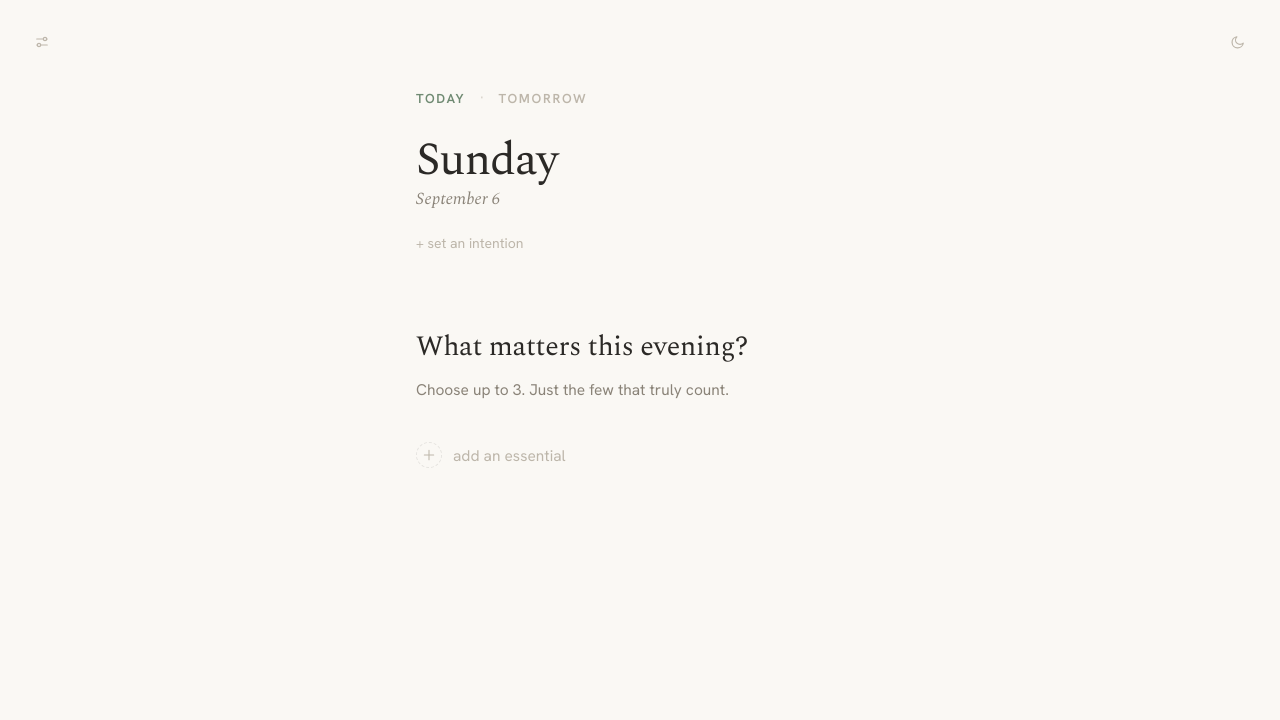
Test: adding and the cap › hides "add" and shows the calm note at the cap
Step 1. Click the button "add an essential" → (491, 455), box left=416, top=422, right=566, bottom=488
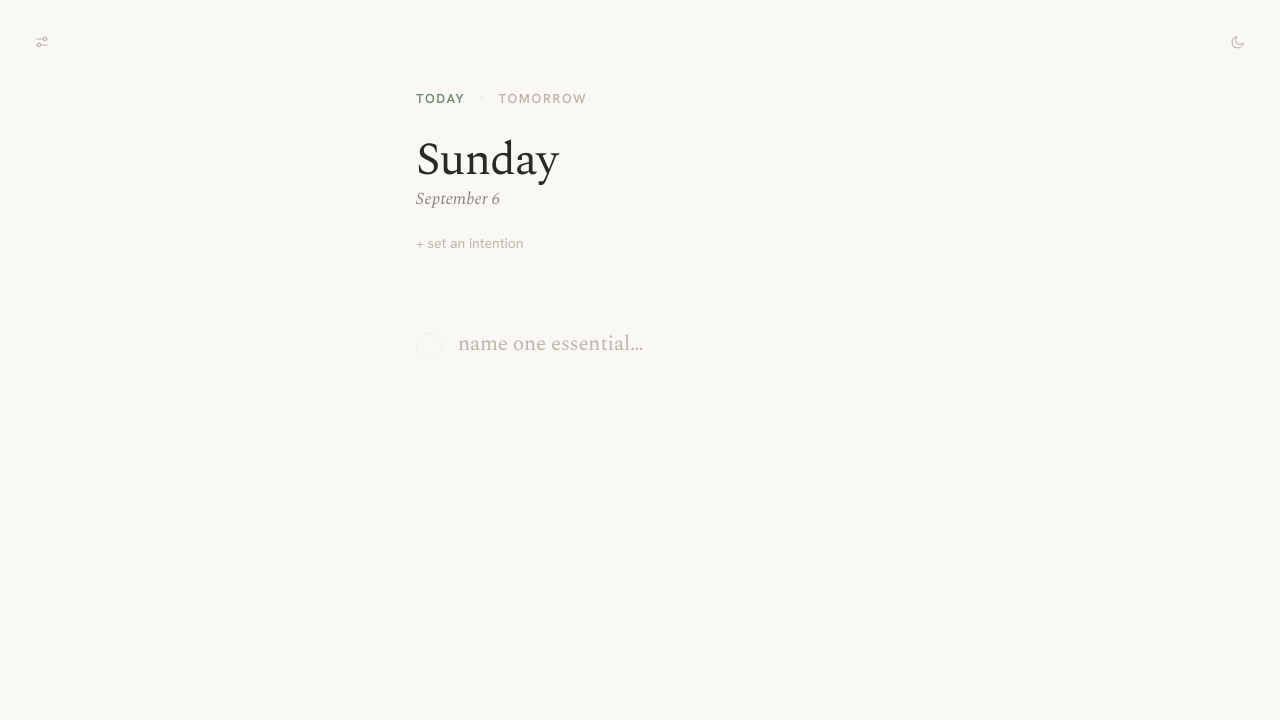
Step 2. Type "One" into the field named "New essential" → (661, 345), box left=458, top=330, right=864, bottom=360
Then press Enter
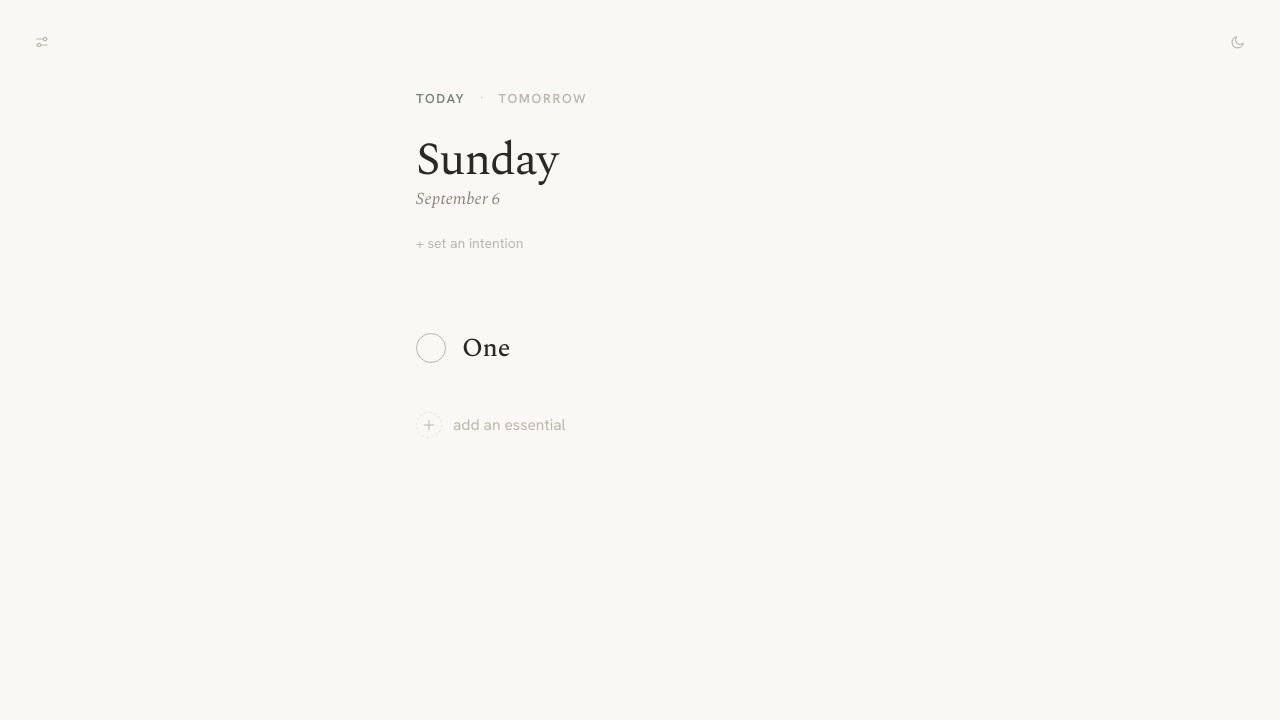
Step 3. Click the button "add an essential" → (491, 424), box left=416, top=392, right=566, bottom=458
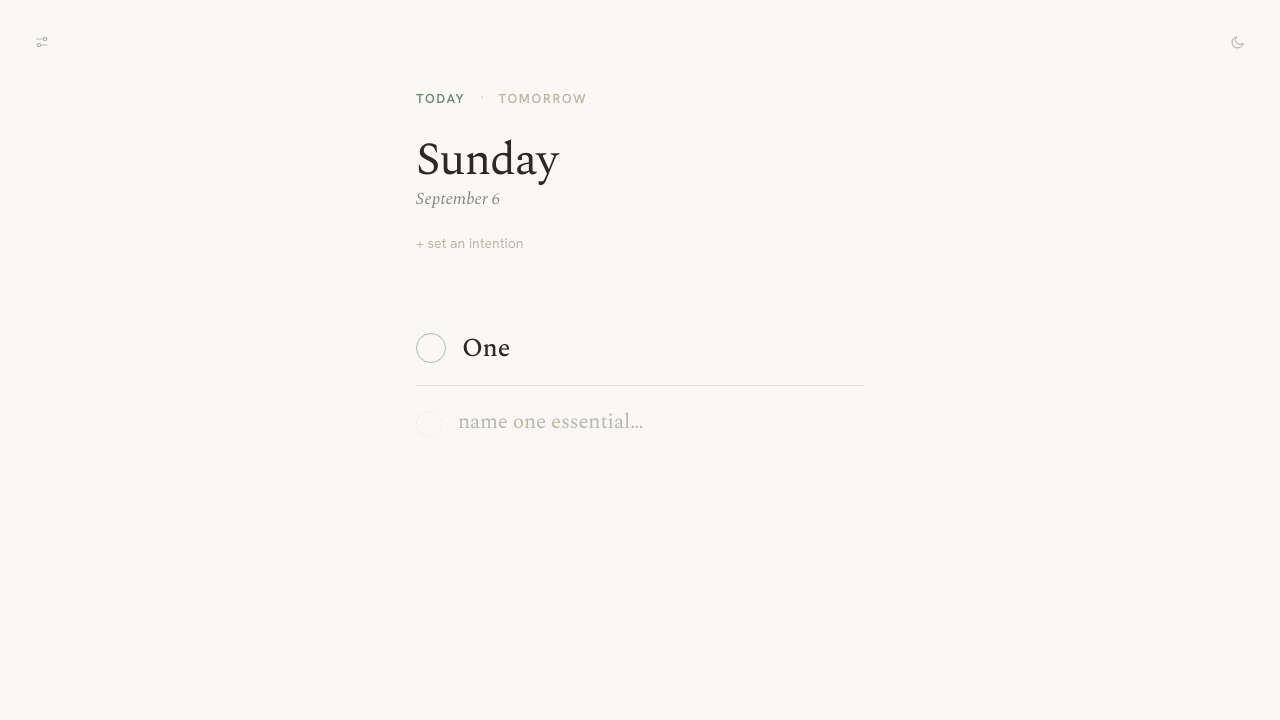
Step 4. Type "Two" into the field named "New essential" → (661, 422), box left=458, top=408, right=864, bottom=437
Then press Enter
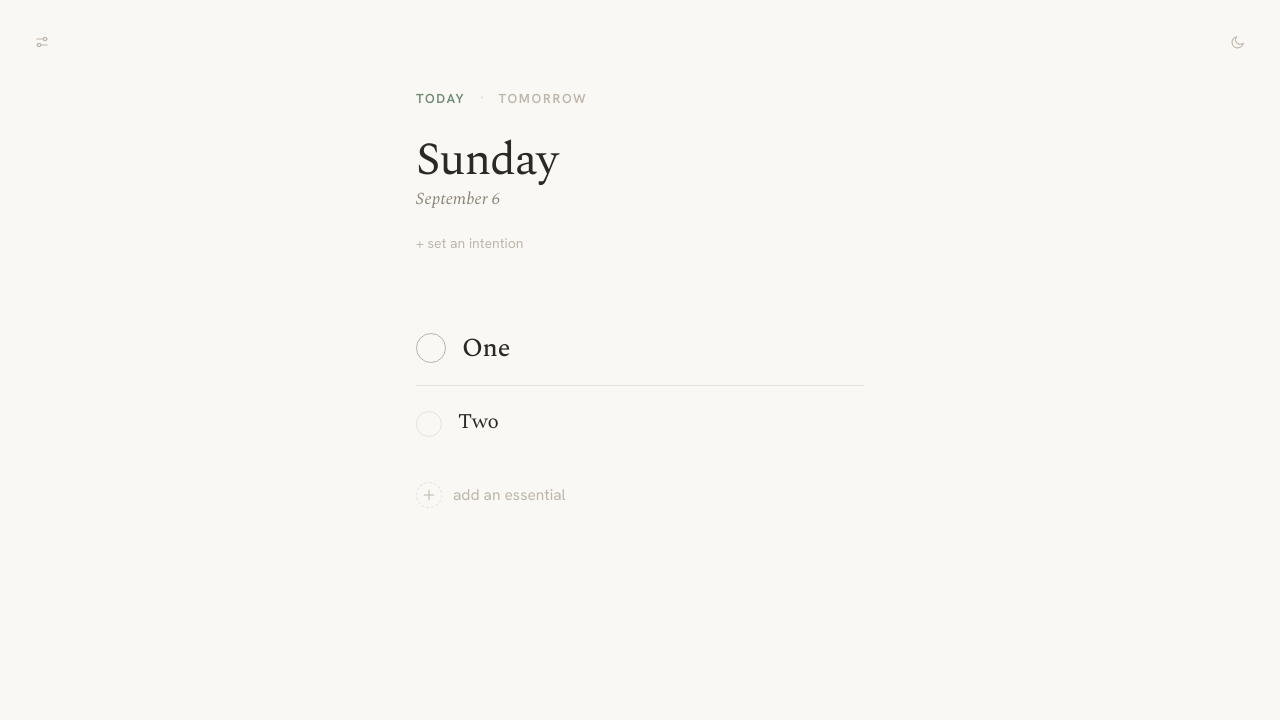
Step 5. Click the button "add an essential" → (491, 495), box left=416, top=462, right=566, bottom=528
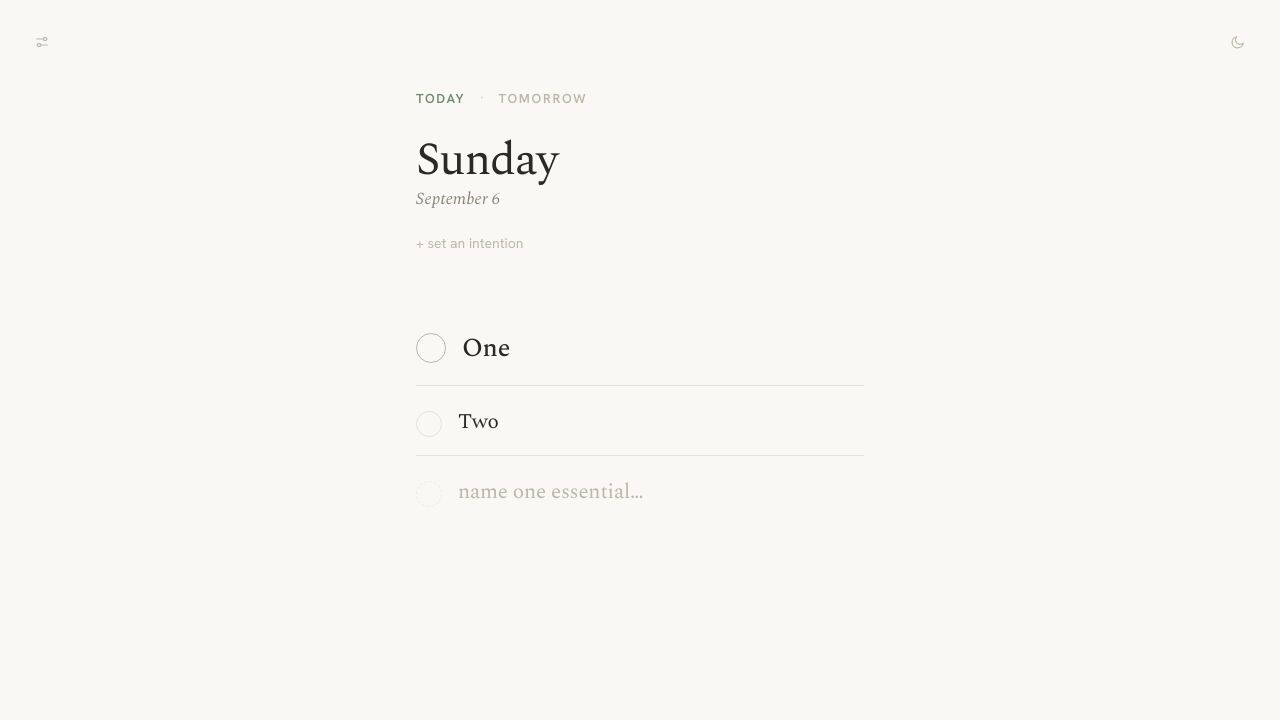
Step 6. Type "Three" into the field named "New essential" → (661, 493), box left=458, top=478, right=864, bottom=507
Then press Enter
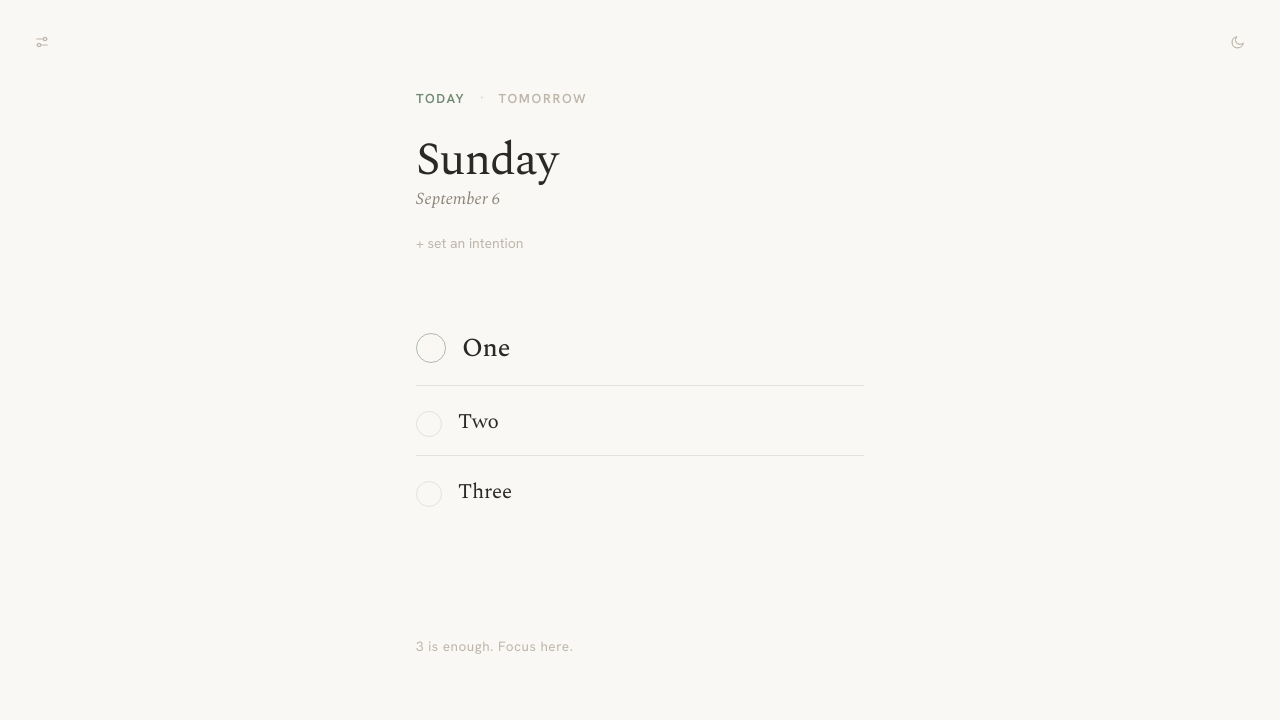
Expected: the button "add an essential" is not shown
Expected: the text "3 is enough. Focus here." is shown, left=416, top=637, right=573, bottom=655
